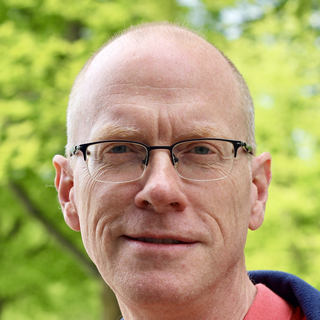eye: (167, 141, 226, 164), (94, 140, 144, 165)
